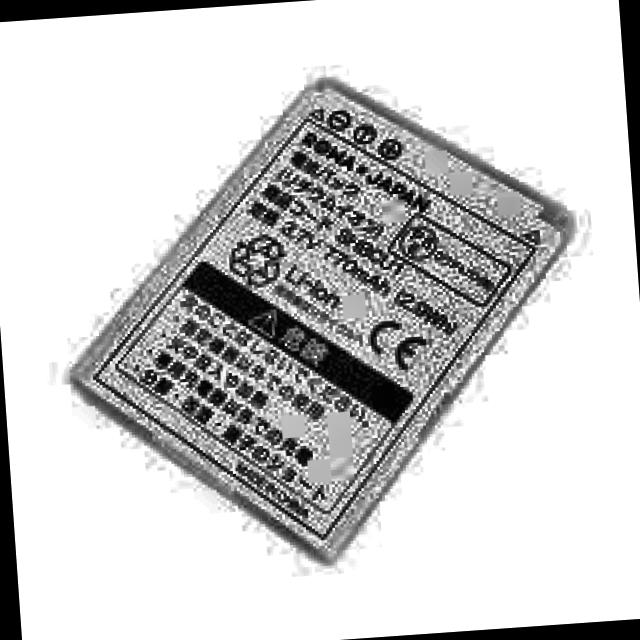Battery: (67, 62, 584, 562)
